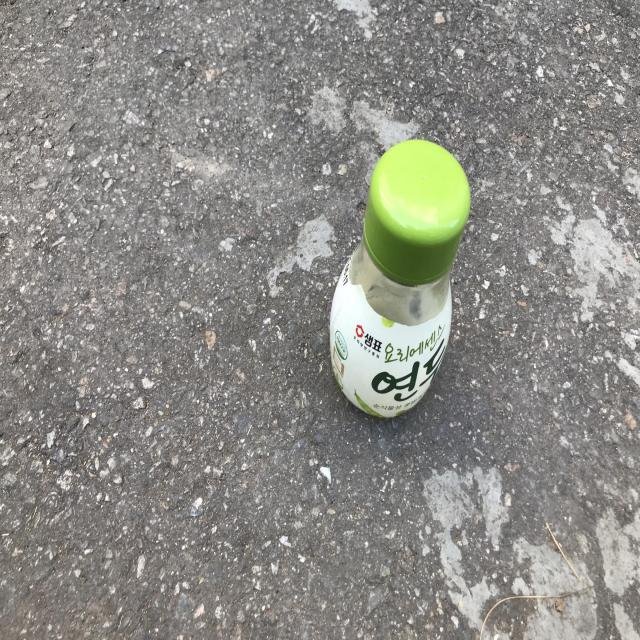glass: (330, 139, 471, 418)
